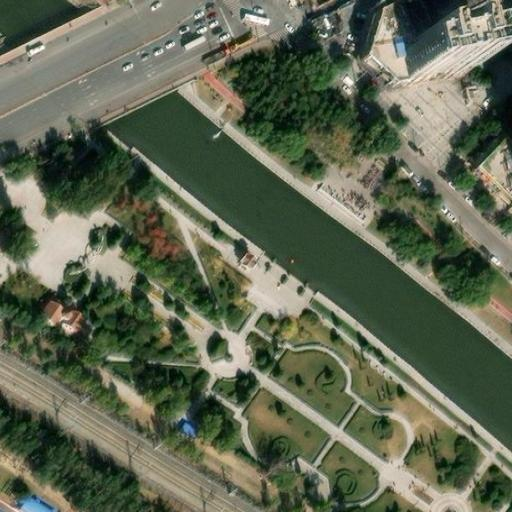building: (384, 30, 460, 77), (472, 143, 512, 213), (34, 288, 85, 334), (499, 144, 512, 185)
